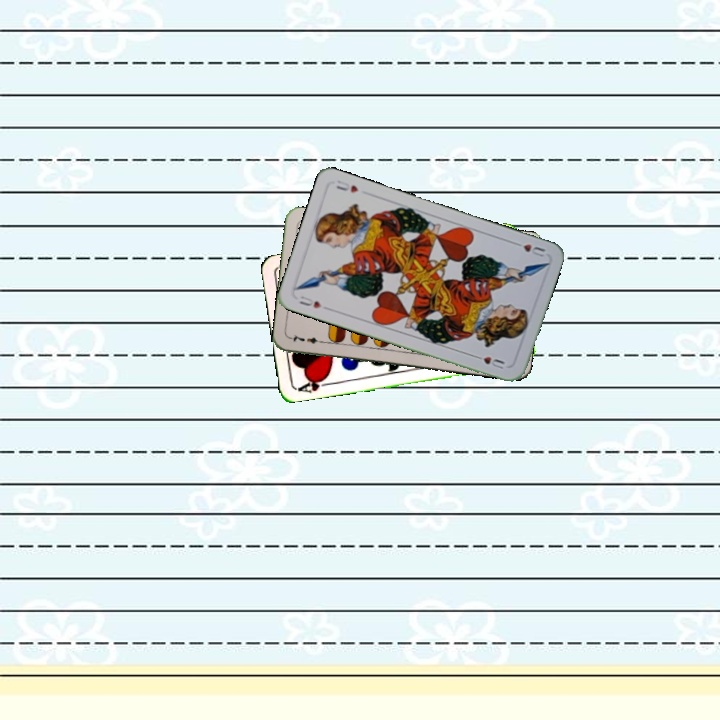E7: (287, 331, 328, 346)
HA: (293, 373, 334, 395)
HU: (509, 238, 548, 259), (295, 292, 331, 312)
